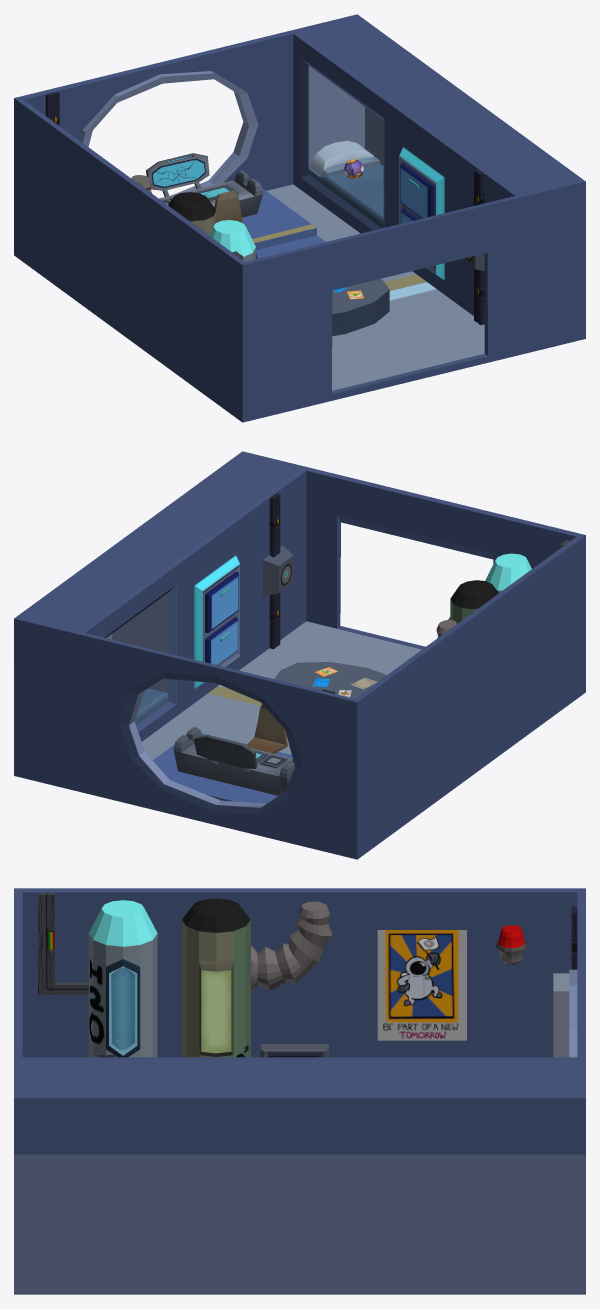
File: Ship_Interior_Model_FBX.fbx
3 views of the same model, one above another, from view 1: azimuth 30°, elevation 25°; view 2: azimuth 150°, elevation 25°; view 3: azimuth 270°, elevation 25° (orthographic). The views are drawn at different scales.
Parts seen in each view (by area): view 1: polySurface4, pCube31, pCube30, pCube11, pCylinder2, pCube28, pCylinder4, pCylinder3; view 2: polySurface4, pCube31, pCylinder2, pCube11, pCube28, pCylinder4, pCube26, pCylinder3, pCube30; view 3: polySurface4, pPlane5, pCylinder4, pCylinder3, pCube18, pPlane6, pPlane7, pCube17, pCube22, pCube16, pCylinder5.
Boxes of the visible parts, x1,y1,x2,y2 form: polySurface4: (14, 14, 585, 422); pCube31: (146, 153, 262, 222); pCube30: (308, 140, 383, 228); pCube11: (242, 188, 325, 258); pCylinder2: (332, 279, 389, 335); pCube28: (45, 92, 484, 325); pCylinder4: (168, 192, 216, 235); pCylinder3: (209, 220, 257, 261); polySurface4: (14, 451, 585, 859); pCube31: (173, 704, 294, 795); pCylinder2: (274, 662, 386, 698); pCube11: (153, 733, 292, 803); pCube28: (269, 493, 334, 693); pCylinder4: (448, 580, 498, 623); pCube26: (263, 545, 293, 596); pCylinder3: (485, 553, 531, 592); pCube30: (135, 688, 168, 724); polySurface4: (14, 888, 585, 1294); pPlane5: (377, 930, 466, 1040); pCylinder4: (182, 898, 250, 1057); pCylinder3: (88, 900, 157, 1057); pCube18: (250, 901, 332, 991); pPlane6: (201, 970, 231, 1053); pPlane7: (109, 966, 137, 1055); pCube17: (38, 892, 88, 994); pCube22: (553, 973, 569, 1057); pCube16: (260, 1044, 328, 1057); pCylinder5: (495, 925, 527, 964).
Size of the model in its own units: 296 by 130 by 341.
